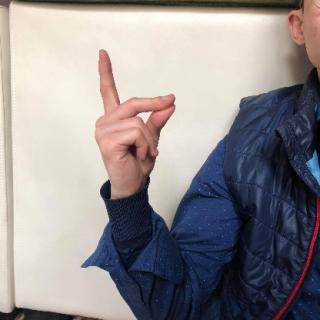TAA: (90, 44, 182, 195)
